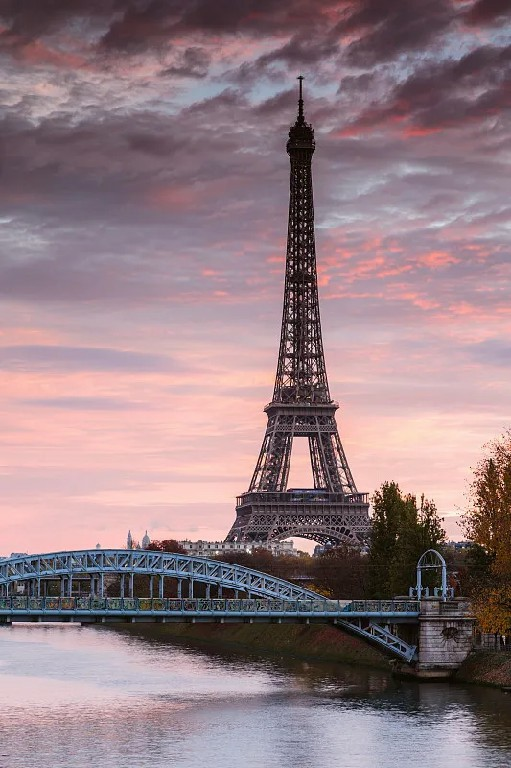Eiffel: (223, 73, 380, 562)
